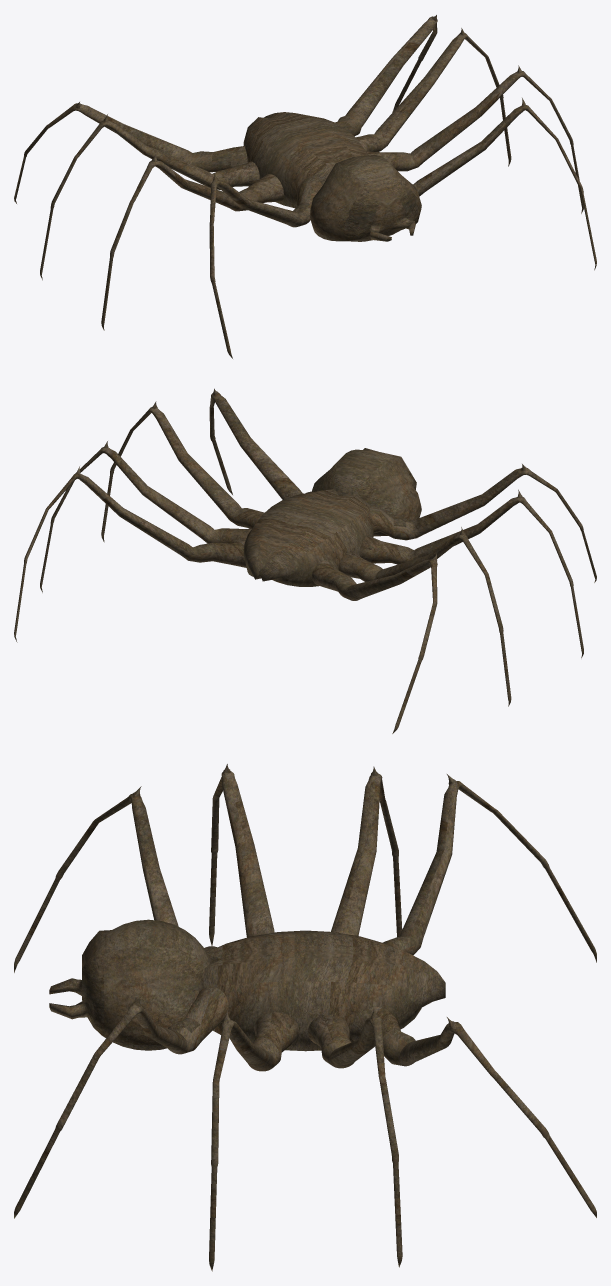
File: Spider_Statue_1.fbx
3 views of the same model, one above another, from view 1: azimuth 30°, elevation 25°; view 2: azimuth 150°, elevation 25°; view 3: azimuth 270°, elevation 25° (orthographic). The views are drawn at different scales.
Visible parts, largest first — view 1: Cylinder_000; view 2: Cylinder_000; view 3: Cylinder_000.
Part boxes in pixels (x1,y1,x2,y2): Cylinder_000: [14, 15, 596, 358]; Cylinder_000: [14, 388, 596, 733]; Cylinder_000: [14, 764, 596, 1271].
Size of the model in its own units: 9.87 by 3.14 by 7.41.
